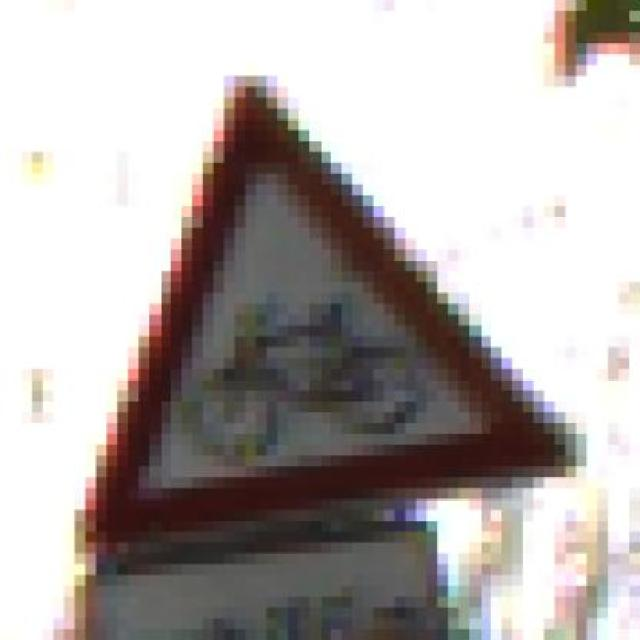CYCLE ROUTE AHEAD WARNING: (53, 64, 598, 554)
